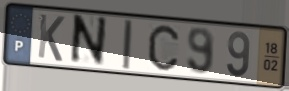9: (186, 26, 216, 77), (225, 30, 252, 80)
C: (146, 23, 181, 73)
I: (121, 18, 134, 71)
K: (36, 12, 66, 64)
N: (67, 13, 109, 68)
